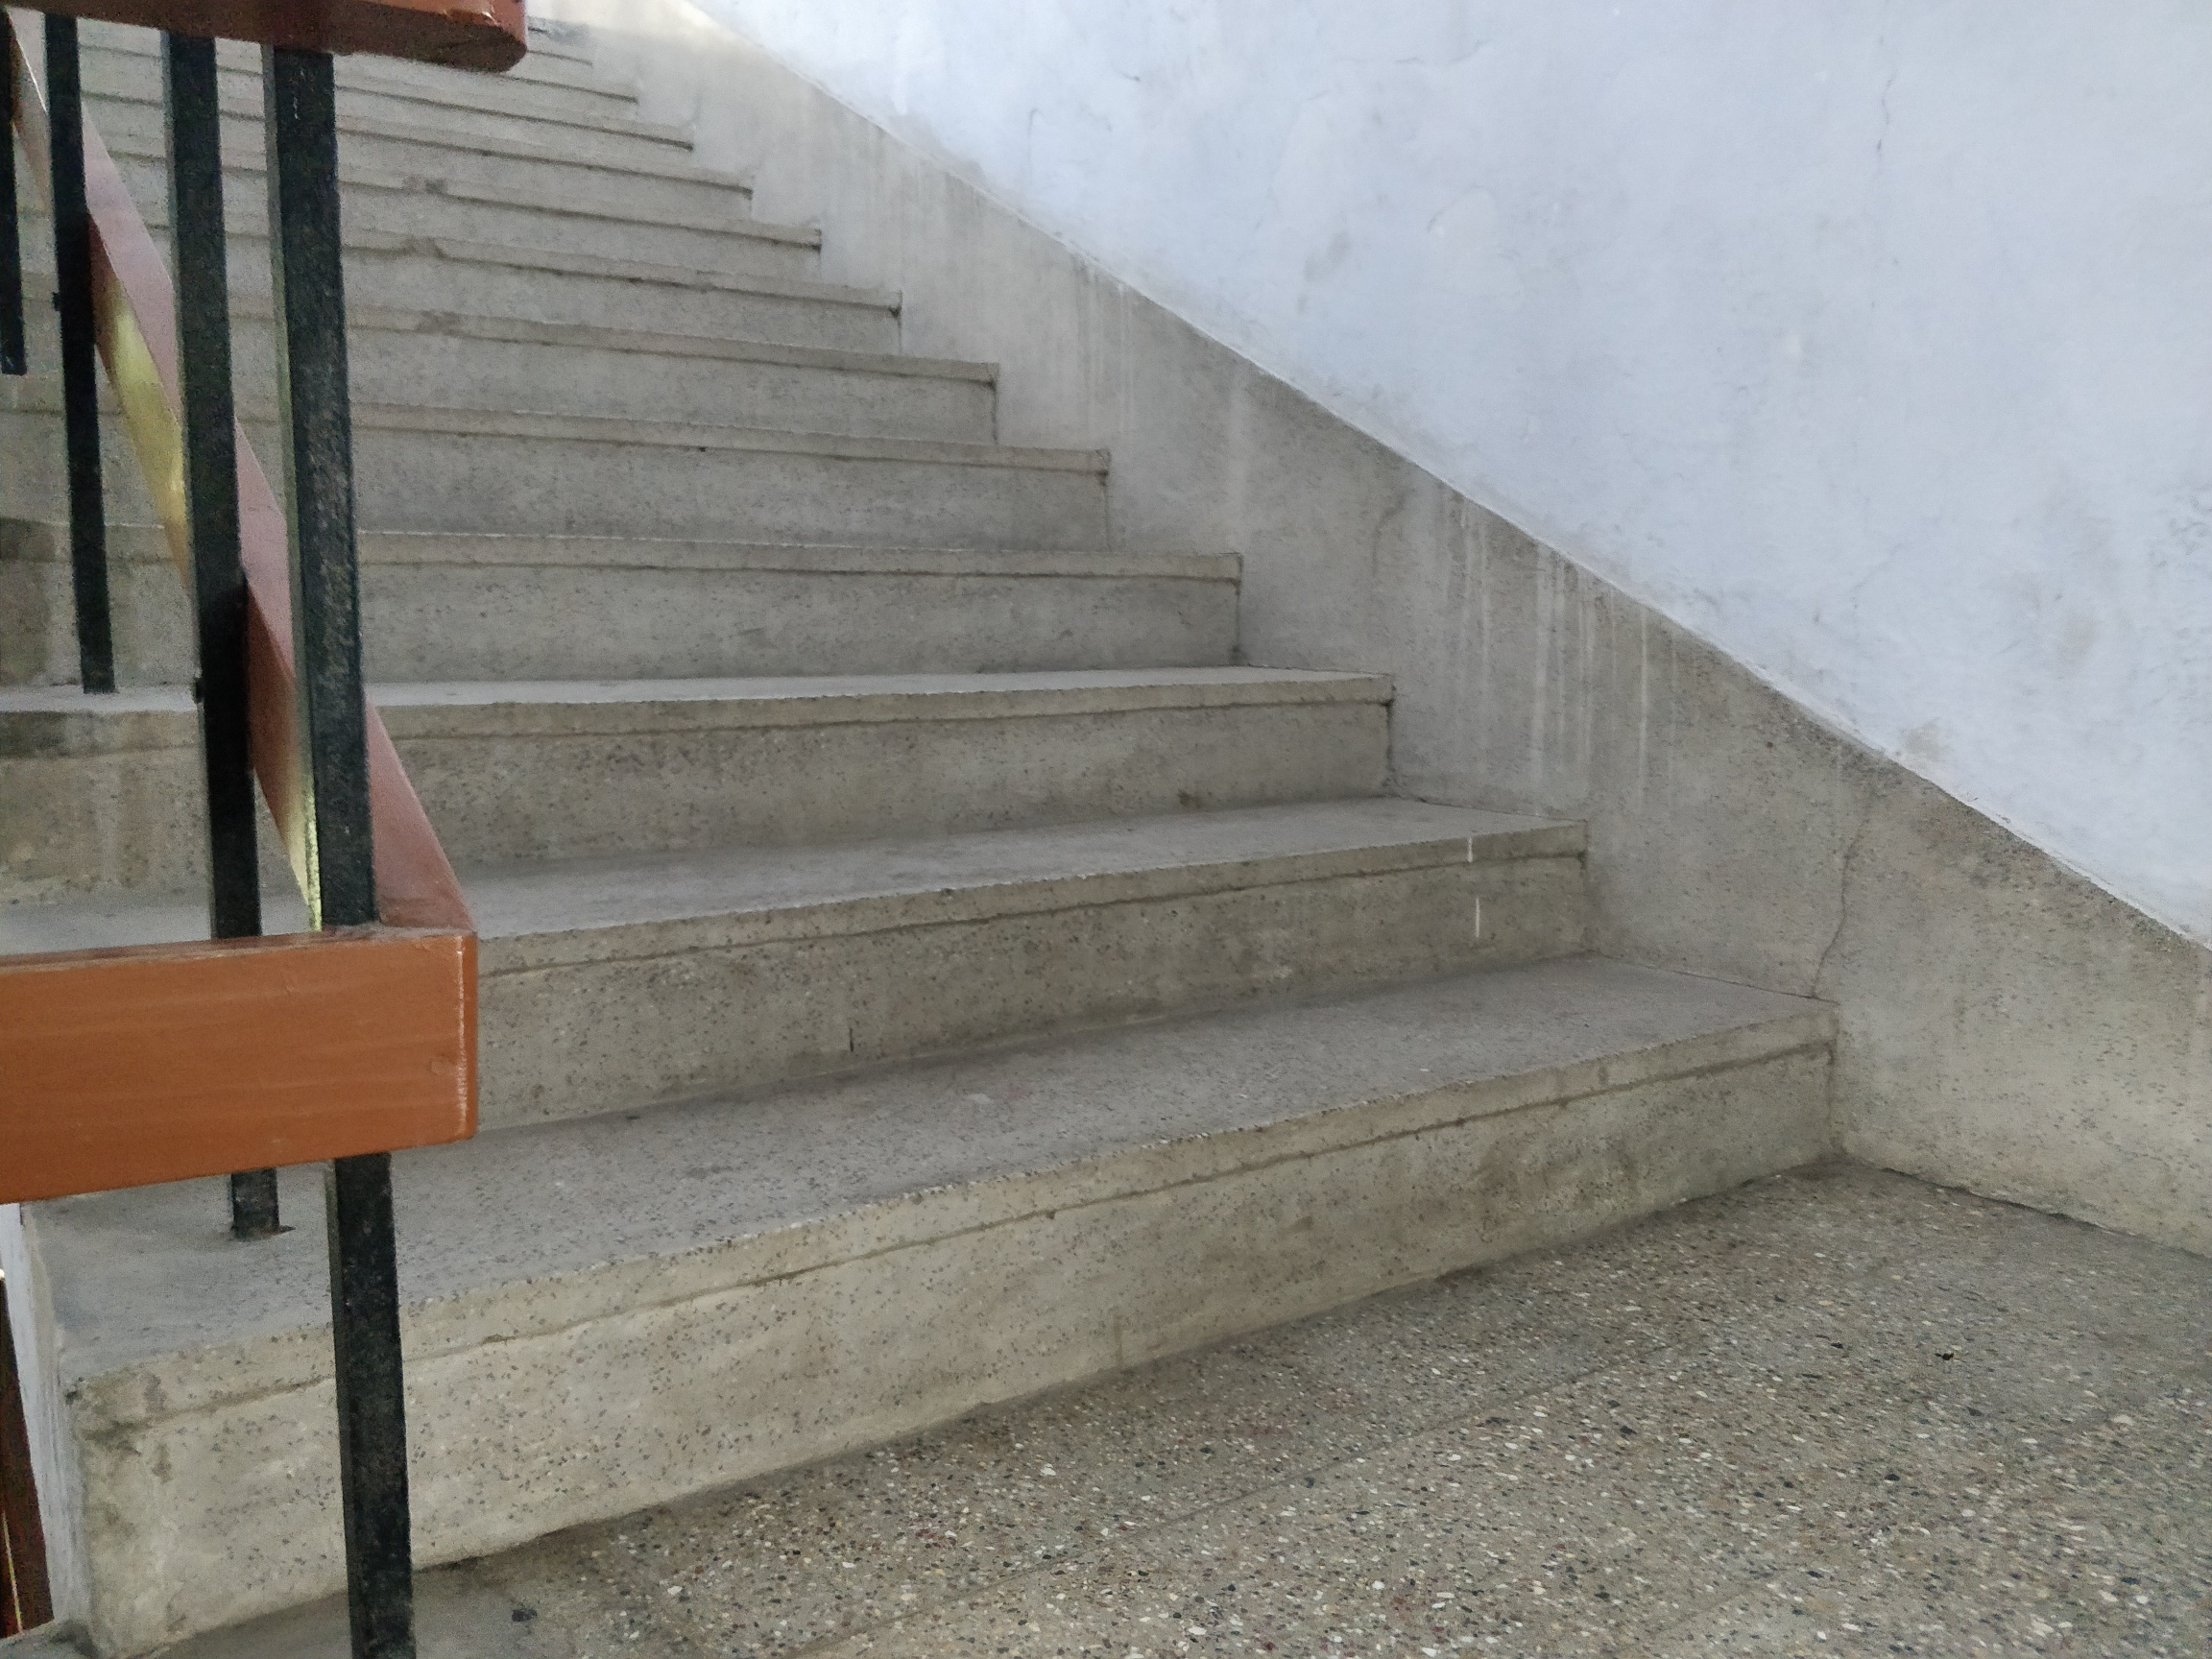stairs_up: (21, 7, 1930, 1378)
